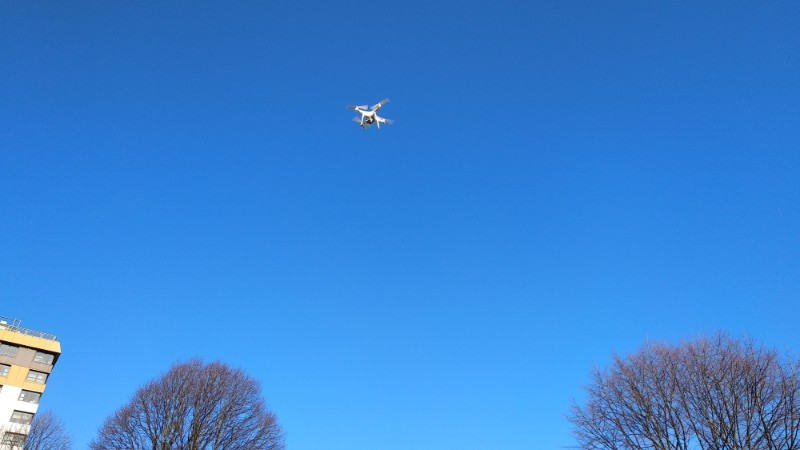drone: (346, 97, 395, 133)
